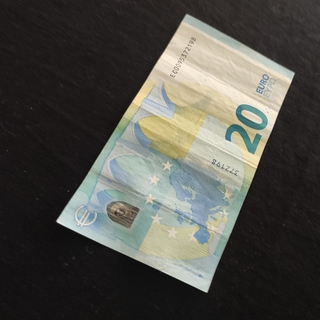20EUROBack: (55, 13, 295, 292)
